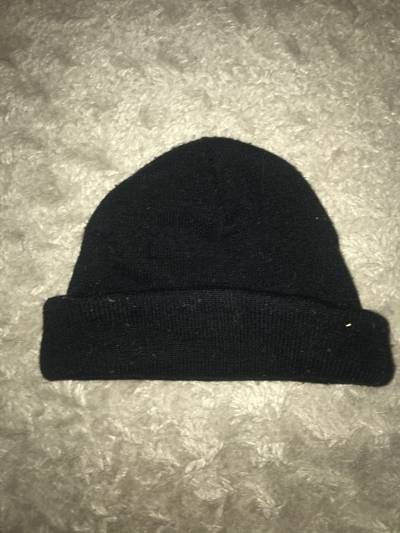Hat: (26, 99, 388, 408)
